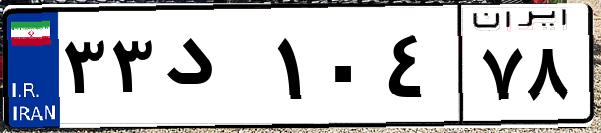0: (330, 28, 385, 110)
1: (270, 28, 330, 110)
3: (57, 26, 110, 100), (110, 28, 158, 98)
4: (385, 28, 445, 110)
7: (475, 38, 525, 113)
8: (525, 38, 570, 115)
د: (158, 20, 270, 120)
